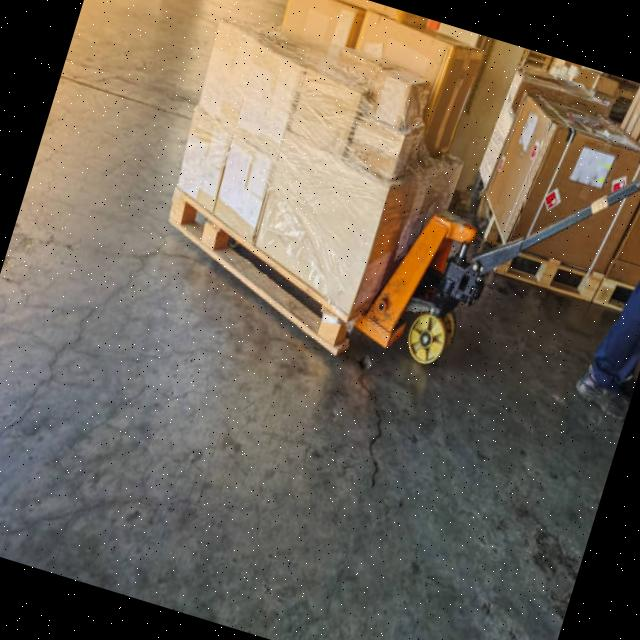Wooden-Pallets: (162, 181, 350, 362)
